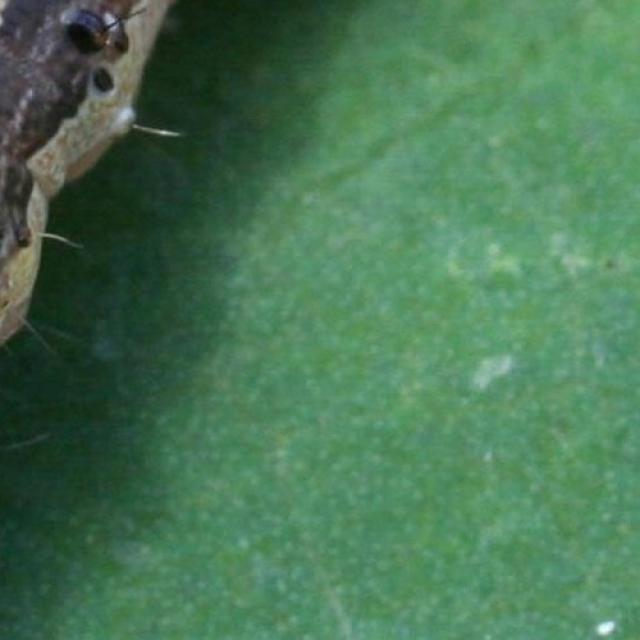armyworm: (0, 0, 172, 361)
